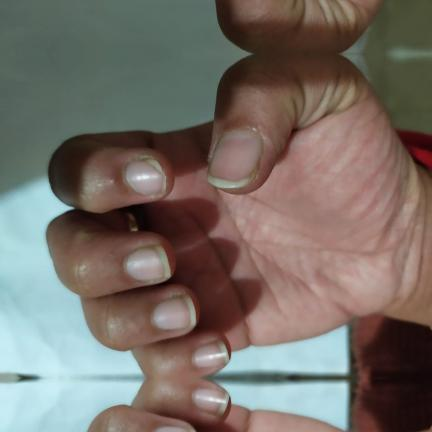Nail: (208, 129, 263, 189), (124, 245, 172, 284), (124, 156, 167, 197), (151, 294, 197, 332), (193, 341, 230, 367), (193, 389, 230, 415), (153, 424, 196, 432)
